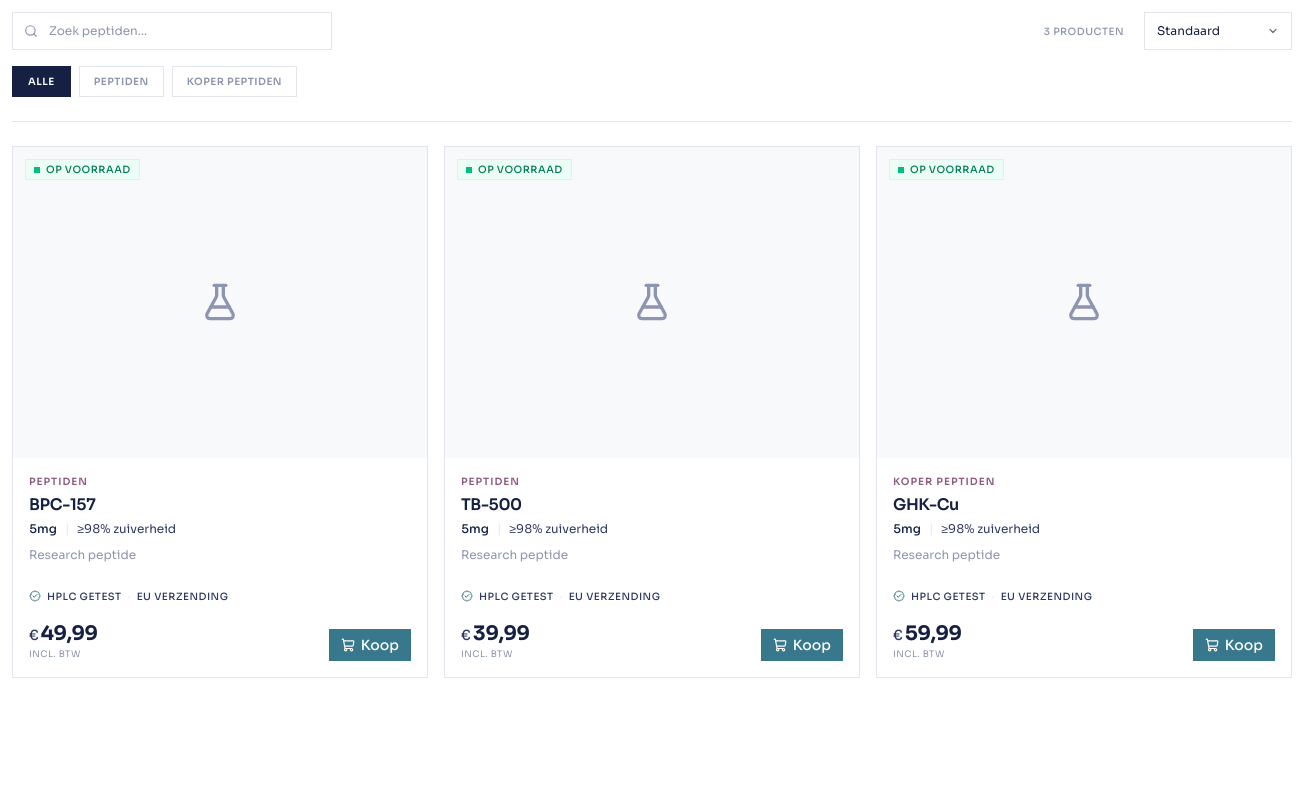
Test: ProductCatalog › filters by search text matching name
In the field with placeholder "Zoek peptiden...": (172, 31) top-left (12, 12), bottom-right (332, 50), type "GHK"
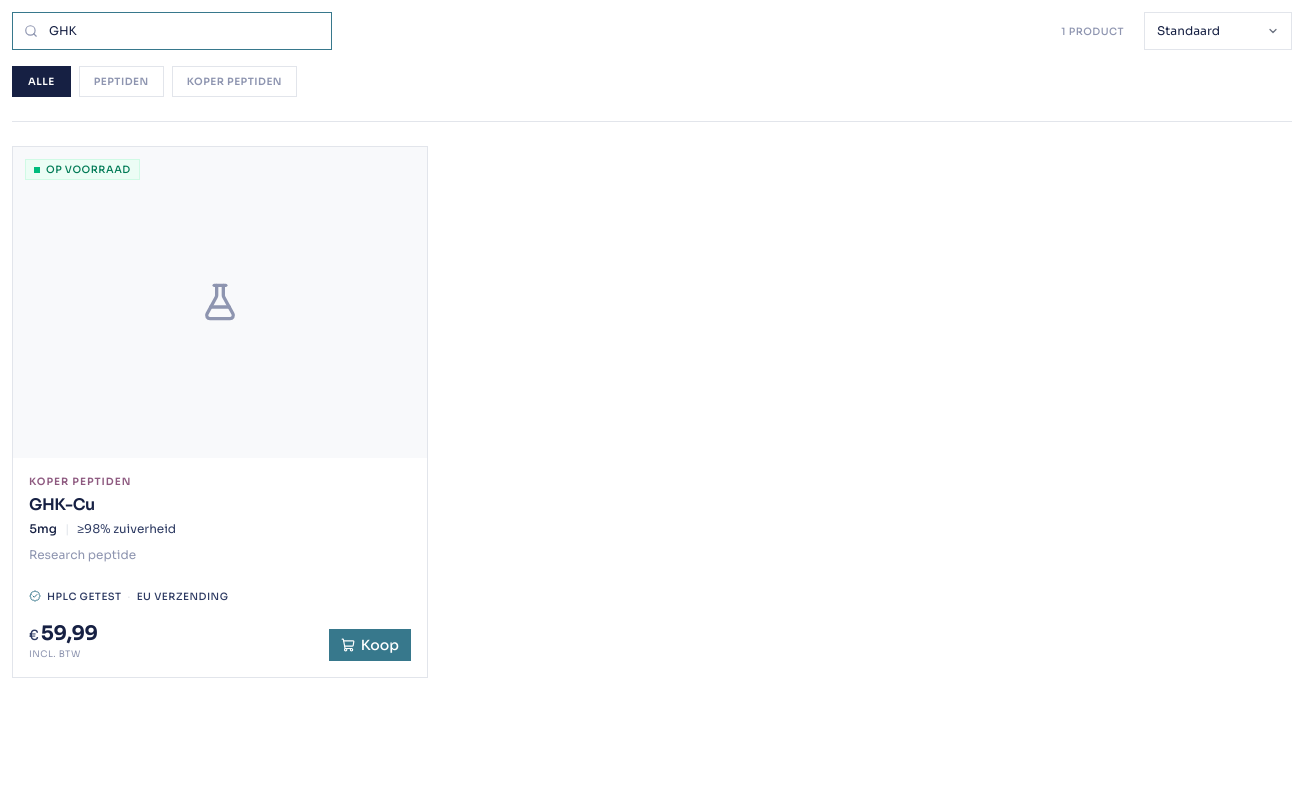
Expected: the heading "GHK-Cu" is shown, top-left (29, 494), bottom-right (95, 514)
Now the heading "BPC-157" is gone
Now the heading "TB-500" is gone
